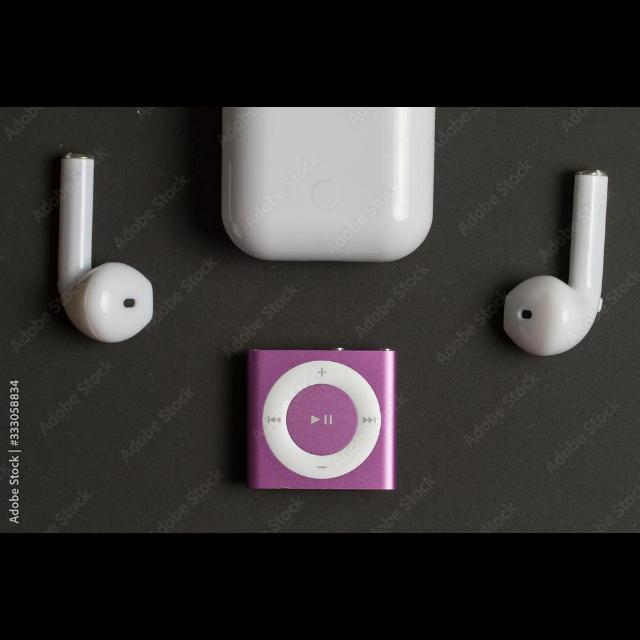Music-Player: (236, 337, 410, 499)
